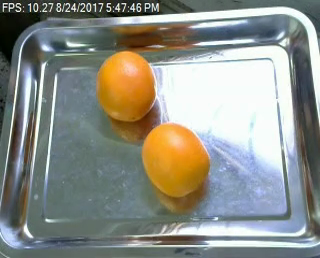Orange: (141, 120, 210, 197), (96, 49, 157, 121)
